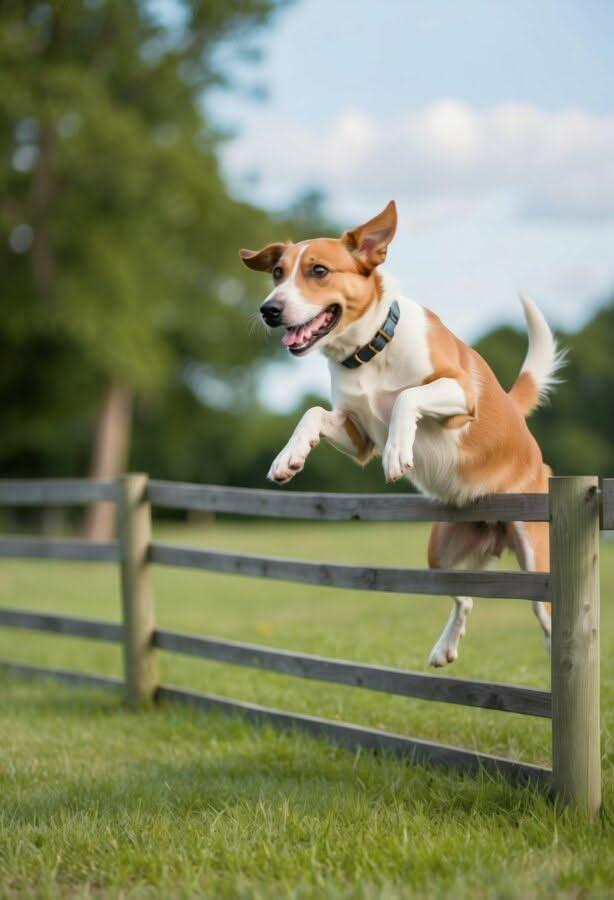adult_dog: (238, 198, 566, 671)
